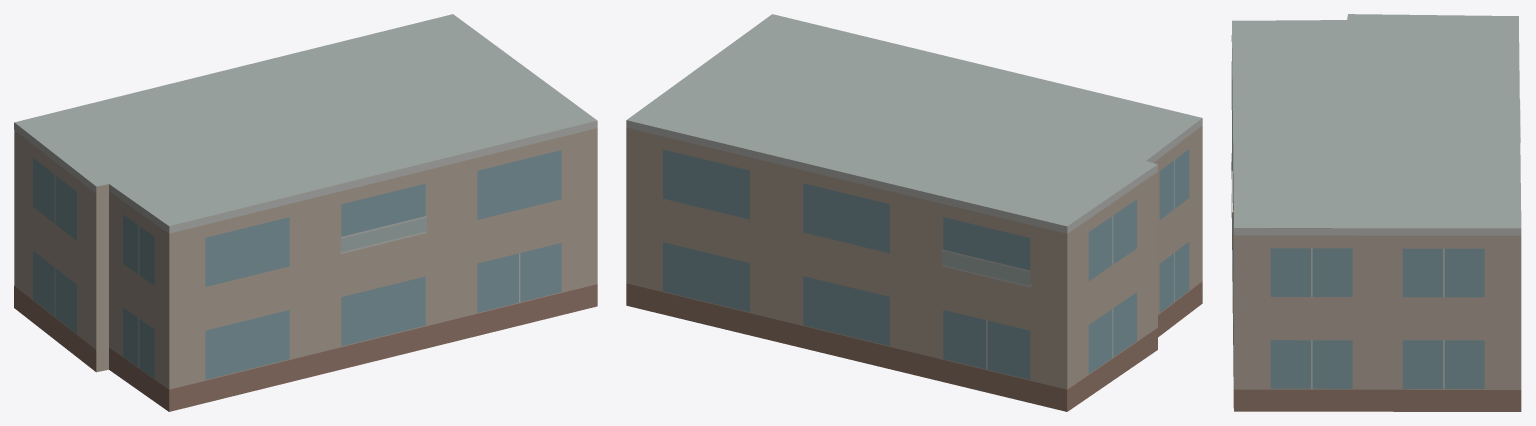
The model's file is survey-upis-32494970.glb.
The picture shows the model from 3 angles, left to right: view 1: azimuth 30°, elevation 25°; view 2: azimuth 150°, elevation 25°; view 3: azimuth 270°, elevation 25°; orthographic projection.
Visible parts, largest first — view 1: survey-upis-32494970.tmp; view 2: survey-upis-32494970.tmp; view 3: survey-upis-32494970.tmp.
Part boxes in pixels (x1=…): survey-upis-32494970.tmp: x1=14, y1=14, x2=597, y2=411; survey-upis-32494970.tmp: x1=626, y1=14, x2=1202, y2=411; survey-upis-32494970.tmp: x1=1231, y1=14, x2=1521, y2=411.
Size of the model in its own units: 15.29 by 6.1 by 8.74.
